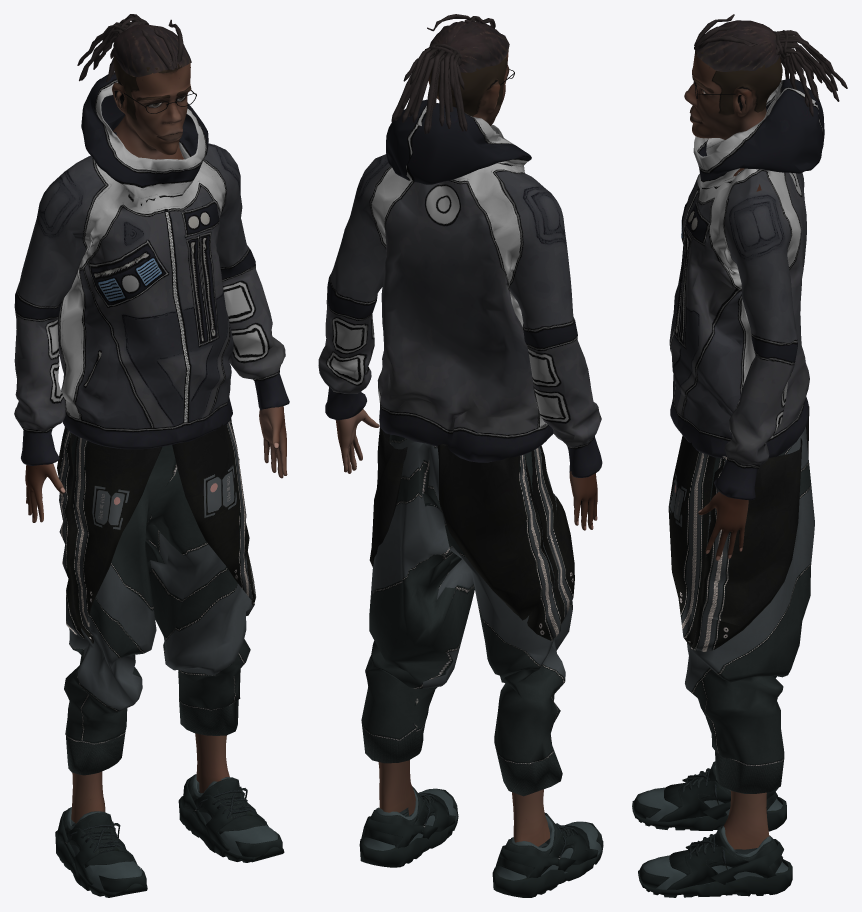
Rendered from Perosnagem Principal.fbx.
3 renders of one model, left to right at view 1: azimuth 30°, elevation 25°; view 2: azimuth 150°, elevation 25°; view 3: azimuth 270°, elevation 25°, orthographic. The views are drawn at different scales.
Parts seen in each view (by area): view 1: Jacket, Pants, Model001_25_Head1_0.3_0_0.2_hips_root hips.003, Shoes_BackStrip.002, Shoes_BackStrip.001, Model001_25_Head1_0.3_0_0.2_hips_root hips.006, Model001_25_Head1_0.3_0_0.2_hips_root hips.000, Model001_25_Head1_0.3_0_0.2_hips_root hips.002, Model001_25_Head1_0.3_0_0.2_hips_root hips.026, Model001_25_Head1_0.3_0_0.2_hips_root hips.001, Model001_25_Head1_0.3_0_0.2_hips_root hips.015; view 2: Jacket, Pants, Shoes_BackStrip.001, Shoes_BackStrip.002, Model001_25_Head1_0.3_0_0.2_hips_root hips.015, Model001_25_Head1_0.3_0_0.2_hips_root hips.006, Model001_25_Head1_0.3_0_0.2_hips_root hips.003, Model001_25_Head1_0.3_0_0.2_hips_root hips.026, Model001_25_Head1_0.3_0_0.2_hips_root hips.000, Model001_25_Head1_0.3_0_0.2_hips_root hips.001, Model001_25_Head1_0.3_0_0.2_hips_root hips.002; view 3: Jacket, Pants, Shoes_BackStrip.002, Model001_25_Head1_0.3_0_0.2_hips_root hips.003, Shoes_BackStrip.001, Model001_25_Head1_0.3_0_0.2_hips_root hips.006, Model001_25_Head1_0.3_0_0.2_hips_root hips.015, Model001_25_Head1_0.3_0_0.2_hips_root hips.000, Model001_25_Head1_0.3_0_0.2_hips_root hips.002.
Part boxes in pixels (x1,y1,x2,y2): Jacket: [14, 72, 289, 465]; Pants: [57, 418, 255, 775]; Model001_25_Head1_0.3_0_0.2_hips_root hips.003: [112, 55, 191, 159]; Shoes_BackStrip.002: [178, 774, 284, 862]; Shoes_BackStrip.001: [55, 807, 147, 897]; Model001_25_Head1_0.3_0_0.2_hips_root hips.006: [113, 24, 191, 77]; Model001_25_Head1_0.3_0_0.2_hips_root hips.000: [195, 733, 229, 793]; Model001_25_Head1_0.3_0_0.2_hips_root hips.002: [259, 406, 287, 478]; Model001_25_Head1_0.3_0_0.2_hips_root hips.026: [71, 771, 105, 823]; Model001_25_Head1_0.3_0_0.2_hips_root hips.001: [25, 463, 65, 522]; Model001_25_Head1_0.3_0_0.2_hips_root hips.015: [77, 14, 149, 82]; Jacket: [318, 99, 602, 477]; Pants: [361, 427, 574, 796]; Shoes_BackStrip.001: [492, 813, 603, 897]; Shoes_BackStrip.002: [359, 786, 458, 867]; Model001_25_Head1_0.3_0_0.2_hips_root hips.015: [391, 43, 464, 133]; Model001_25_Head1_0.3_0_0.2_hips_root hips.006: [429, 21, 509, 72]; Model001_25_Head1_0.3_0_0.2_hips_root hips.003: [428, 34, 509, 125]; Model001_25_Head1_0.3_0_0.2_hips_root hips.026: [512, 789, 549, 846]; Model001_25_Head1_0.3_0_0.2_hips_root hips.000: [378, 760, 415, 815]; Model001_25_Head1_0.3_0_0.2_hips_root hips.001: [569, 471, 597, 530]; Model001_25_Head1_0.3_0_0.2_hips_root hips.002: [335, 409, 379, 473]; Jacket: [669, 78, 824, 500]; Pants: [668, 406, 814, 793]; Shoes_BackStrip.002: [638, 825, 792, 897]; Model001_25_Head1_0.3_0_0.2_hips_root hips.003: [684, 51, 782, 191]; Shoes_BackStrip.001: [632, 761, 786, 831]; Model001_25_Head1_0.3_0_0.2_hips_root hips.006: [695, 20, 779, 71]; Model001_25_Head1_0.3_0_0.2_hips_root hips.015: [773, 30, 847, 106]; Model001_25_Head1_0.3_0_0.2_hips_root hips.000: [724, 790, 769, 849]; Model001_25_Head1_0.3_0_0.2_hips_root hips.002: [698, 492, 748, 560].
Size of the model in its own units: 85.75 by 254 by 59.42.
